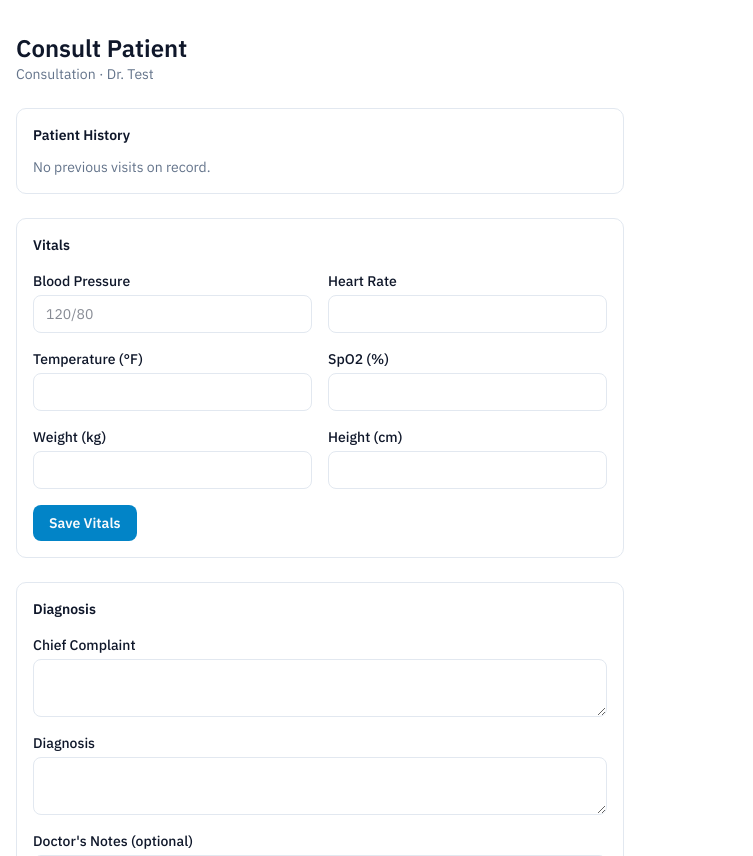
Test: ConsultPage › includes the follow-up date when saving a visit
Type "Fever" into the text box labelled "Chief Complaint" at (320, 688), box top-left (33, 659), bottom-right (607, 717)
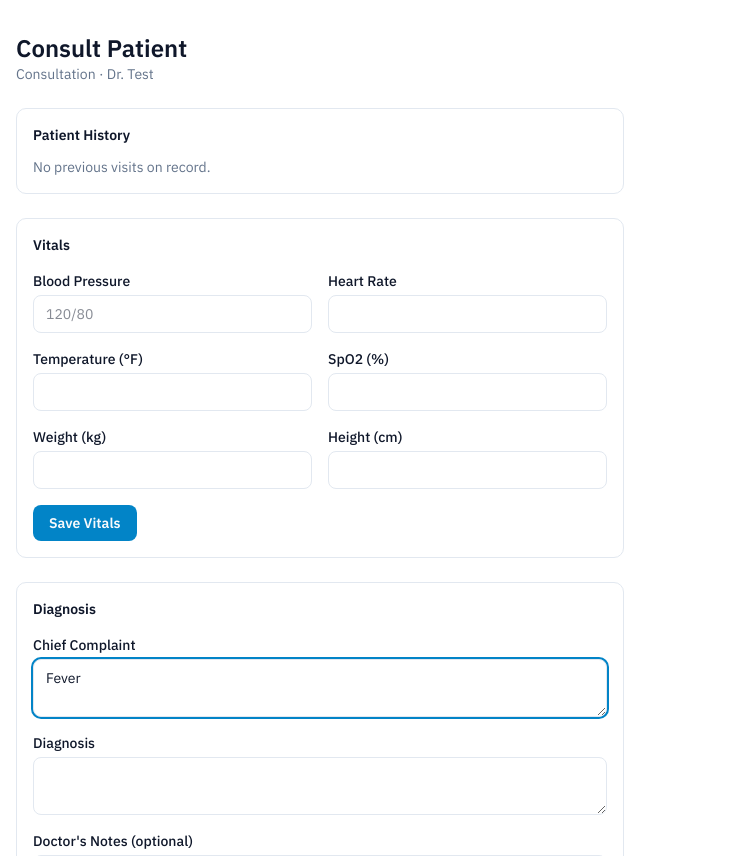
Type "Viral fever" into the text box labelled "Diagnosis" at (320, 786), box top-left (33, 757), bottom-right (607, 815)
(page scrolled)
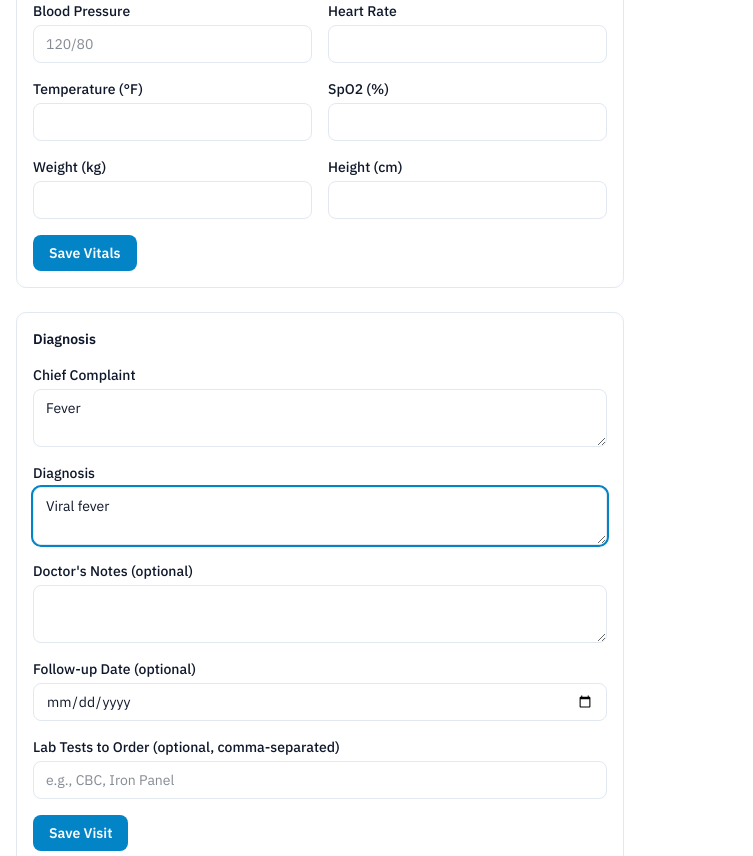
Type "2026-09-01" into the date field labelled "Follow-up Date (optional)" at (320, 702), box top-left (33, 683), bottom-right (607, 721)
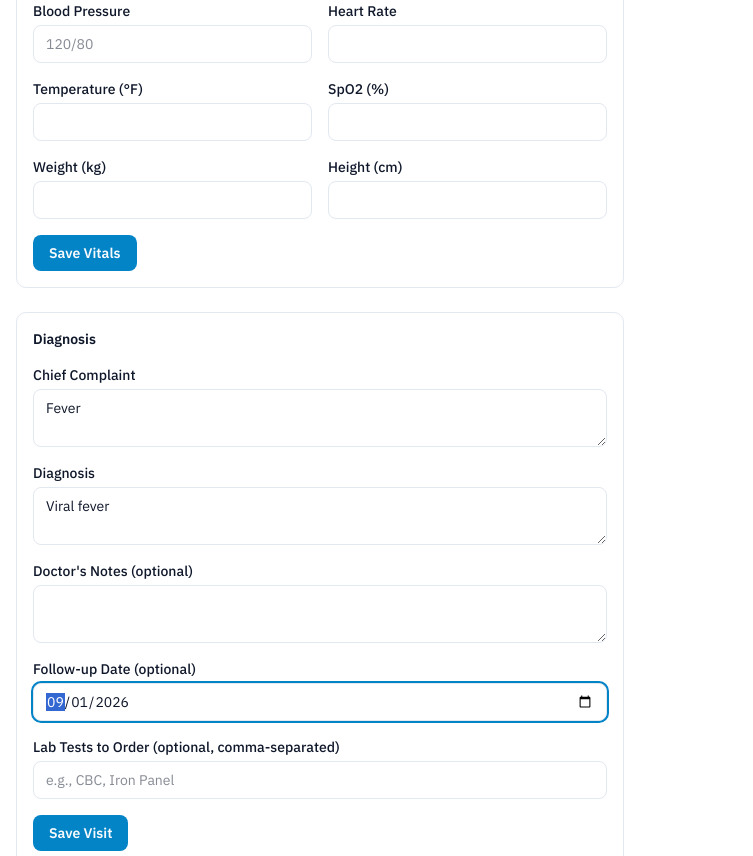
Click the button "Save Visit" at (81, 833), box top-left (33, 815), bottom-right (128, 851)
(page scrolled)
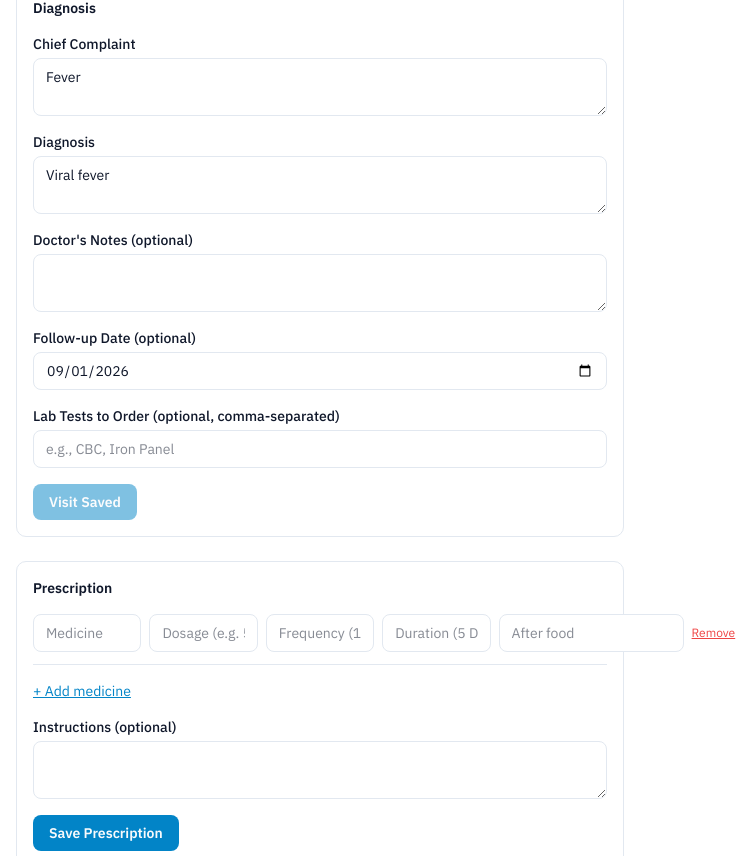
Now the heading "Prescription" is shown, box top-left (33, 579), bottom-right (112, 597)
